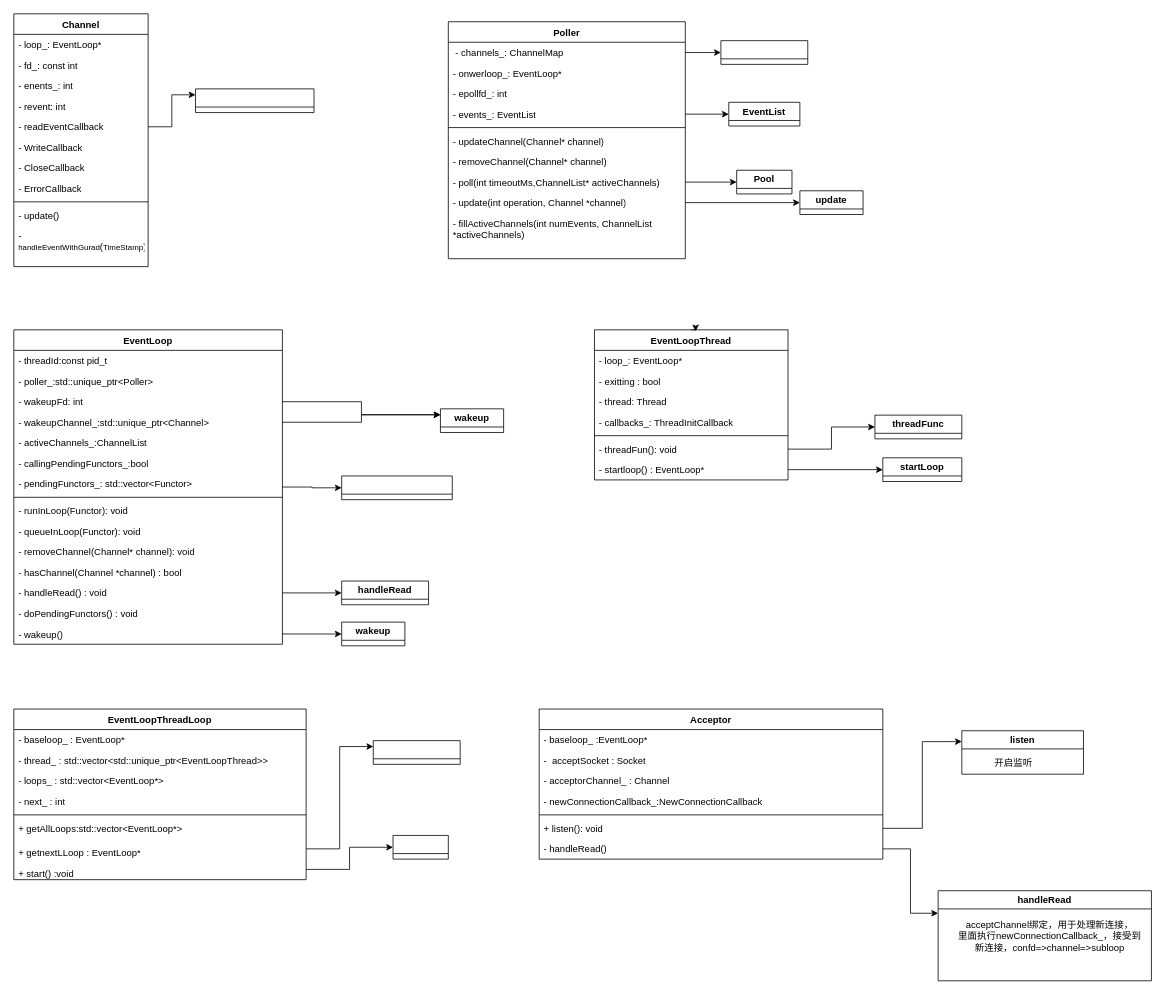
Some shapes in this 1165 by 995 pixel diagram are drawn without their labels. The shapes that lost their labels are listed below. From the top down, each one's centre as x and y in pixels, then its label:
At pixel 764 52: "ChannelMap".
At pixel 254 100: "readEventCallback".
At pixel 396 487: "pendingFunctors".
At pixel 416 752: "getnextLoop".
At pixel 420 847: "start".
